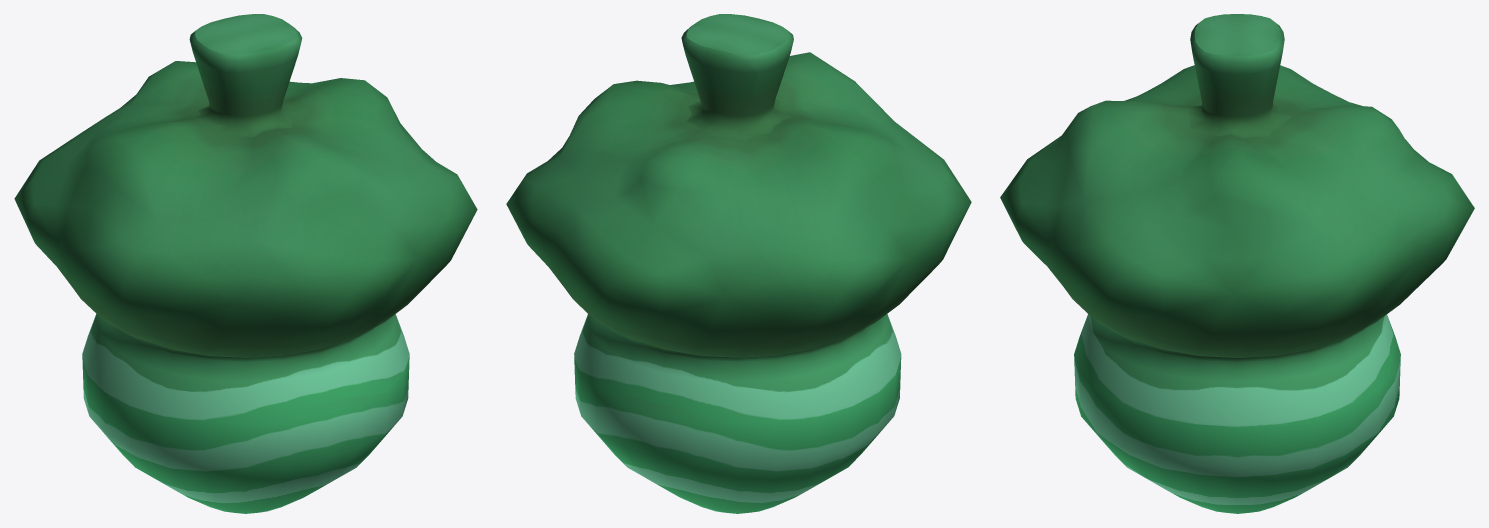
The model's file is acorn_green.gltf.
The picture shows the model from 3 angles, left to right: view 1: azimuth 30°, elevation 25°; view 2: azimuth 150°, elevation 25°; view 3: azimuth 270°, elevation 25°; orthographic projection.
Visible parts, largest first — view 1: acorn_green; view 2: acorn_green; view 3: acorn_green.
Part boxes in pixels (<box>): acorn_green: <box>14,14,477,513</box>; acorn_green: <box>506,14,971,513</box>; acorn_green: <box>1000,14,1474,513</box>.
Bounding box in the file's own units: 0.368 × 0.4558 × 0.4107.
Materials: 1 (1 with a texture image).
